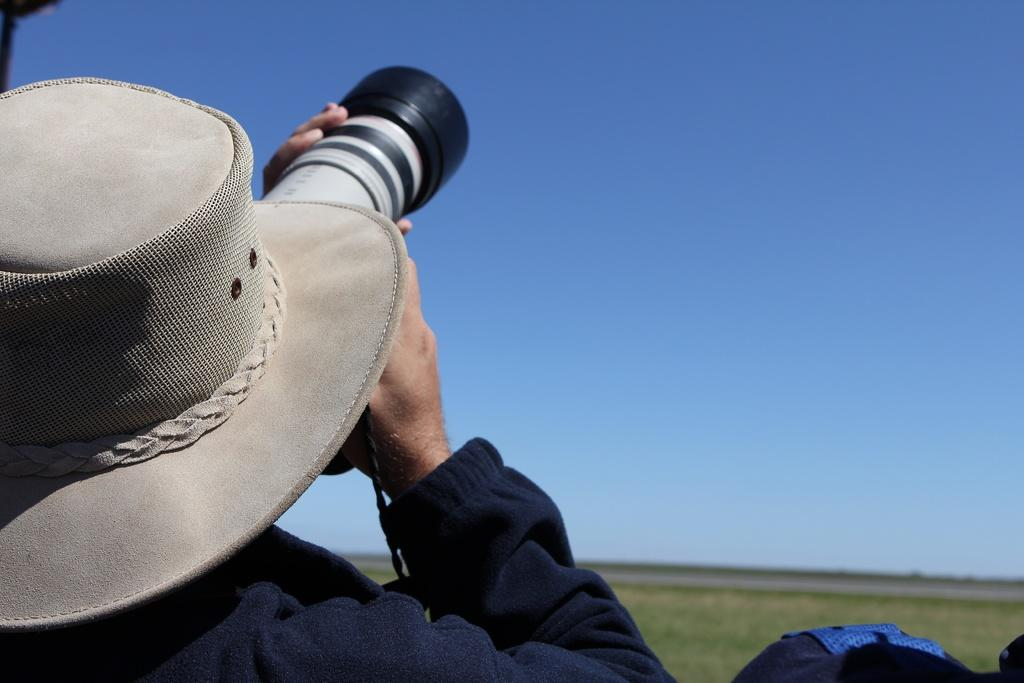Hat: (0, 75, 409, 633)
